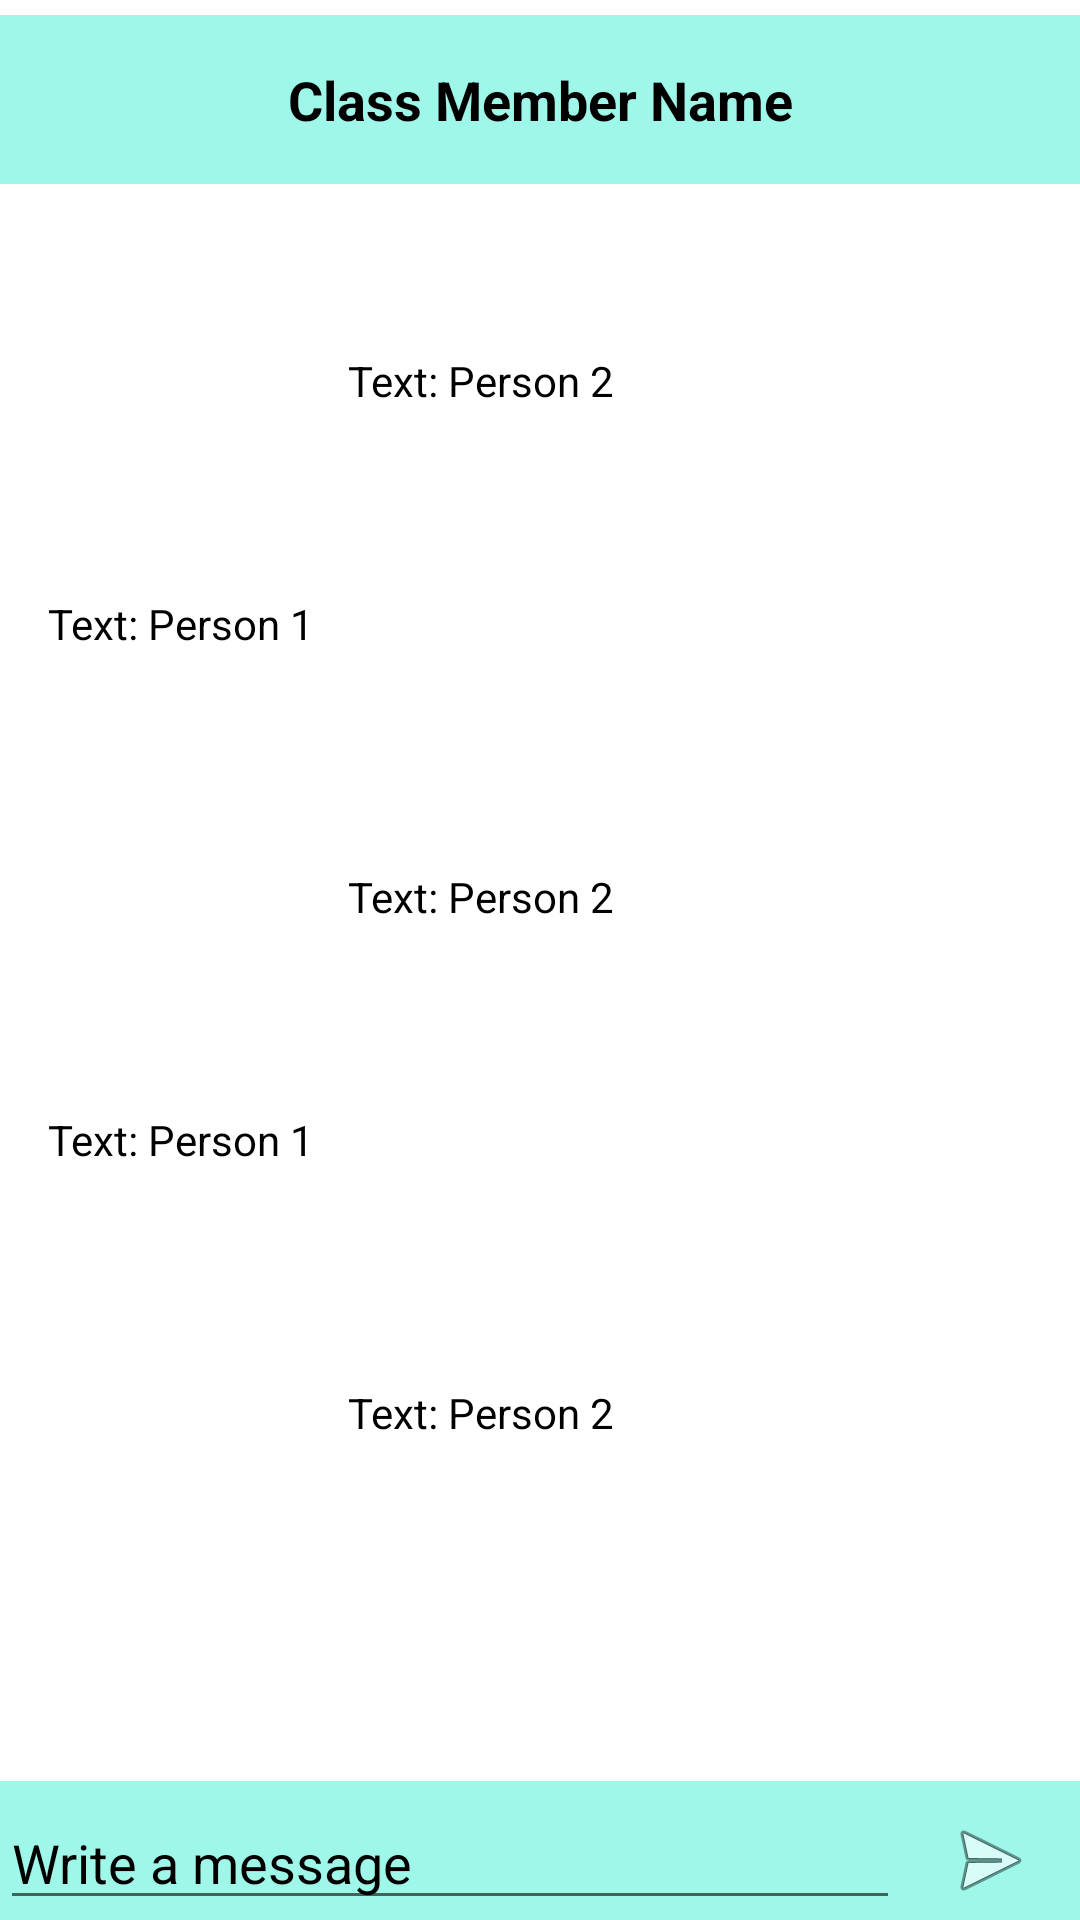

Screen size 1080w x 1920h. Icon name, then its center in pixels as [x,y]:
send: [991,1860]
